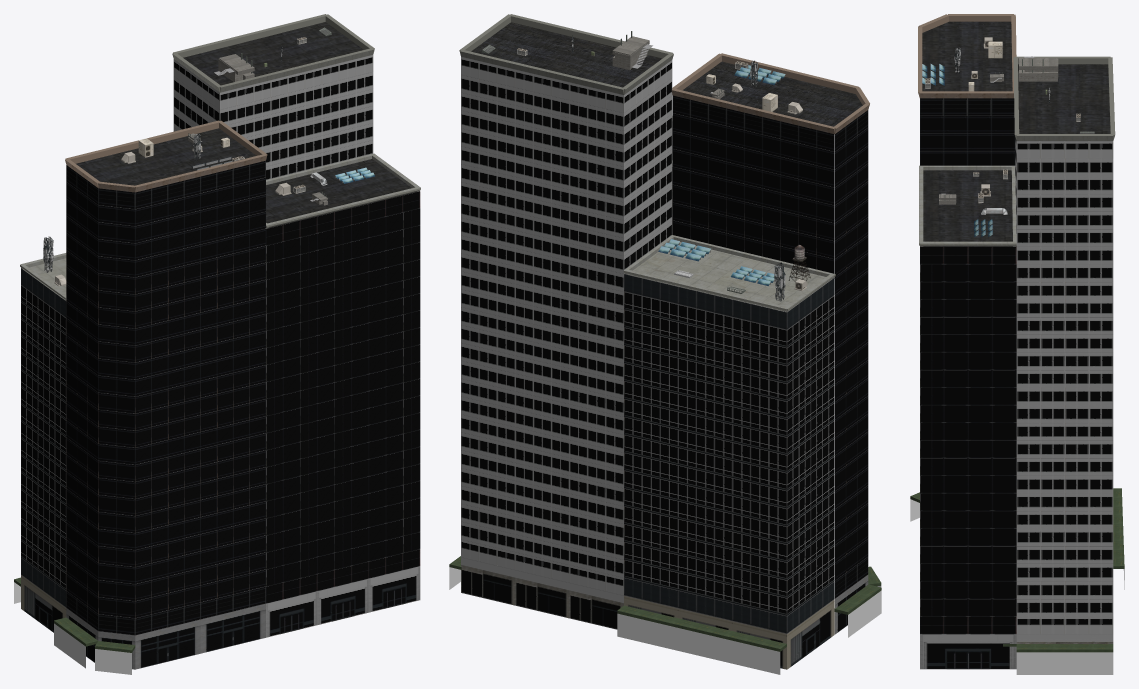
File: building1.gltf
3 renders of one model, left to right at view 1: azimuth 30°, elevation 25°; view 2: azimuth 150°, elevation 25°; view 3: azimuth 270°, elevation 25°, orthographic. The views are drawn at different scales.
Parts seen in each view (by area): view 1: Object_118.004, Object_156.009; view 2: Object_118.004, Object_156.009, Object_67.014; view 3: Object_118.004, Object_156.009, Object_67.013.
Boxes of the visible parts, x1=… form: Object_118.004: x1=14, y1=14, x2=420, y2=674; Object_156.009: x1=214, y1=53, x2=254, y2=81; Object_118.004: x1=449, y1=14, x2=881, y2=674; Object_156.009: x1=612, y1=31, x2=652, y2=70; Object_67.014: x1=658, y1=239, x2=710, y2=261; Object_118.004: x1=910, y1=14, x2=1124, y2=674; Object_156.009: x1=1019, y1=56, x2=1058, y2=81; Object_67.013: x1=922, y1=64, x2=944, y2=85.
Bounding box in the file's own units: 61.12 × 93.73 × 33.05.
Materials: 22 (16 with a texture image).
